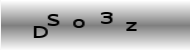3: (99, 11, 114, 25)
D: (33, 25, 48, 39)
S: (46, 12, 61, 27)
o: (72, 18, 86, 29)
z: (125, 21, 139, 33)
